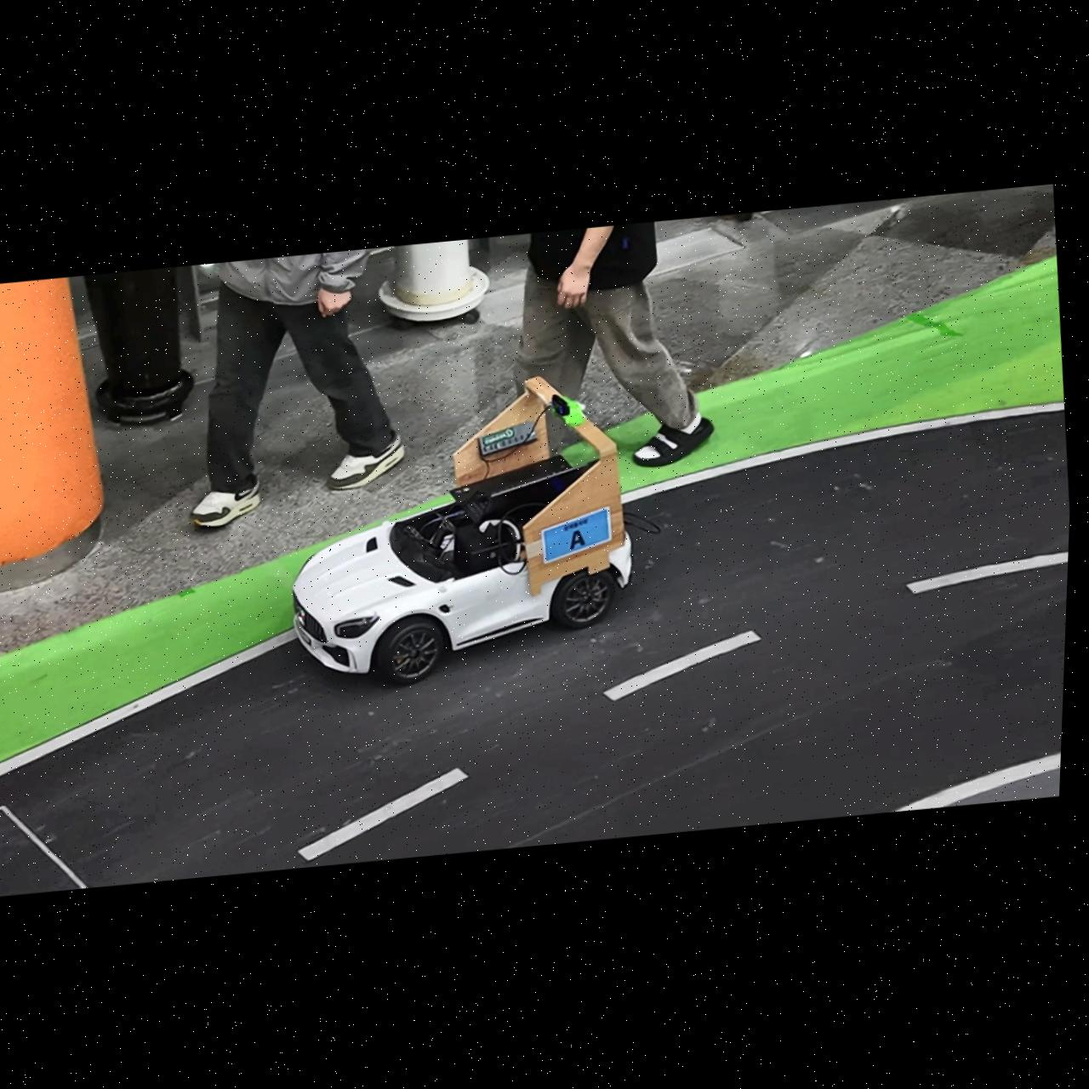broken_line: (297, 768, 469, 861), (603, 630, 763, 700), (907, 552, 1068, 594)
